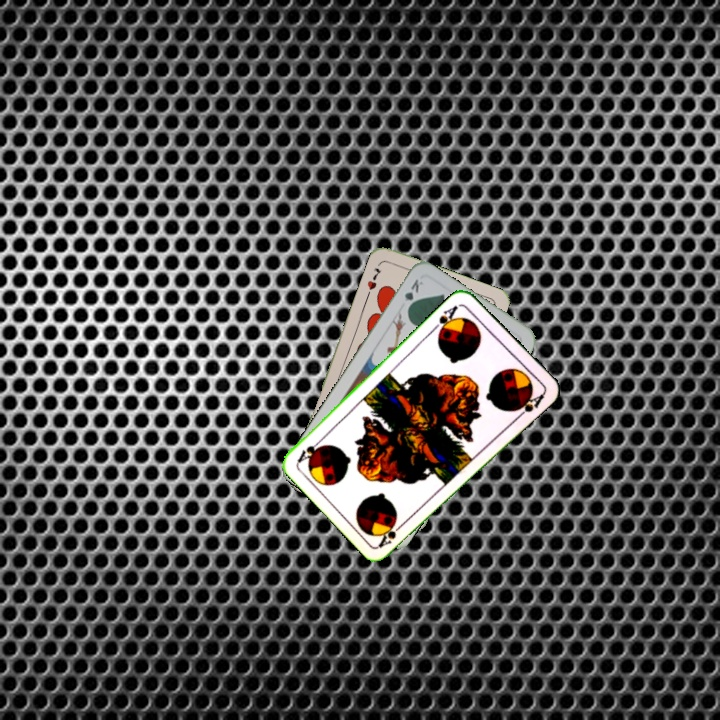GK: (400, 275, 426, 313)
H7: (363, 264, 384, 293)
SA: (429, 301, 462, 337), (374, 518, 408, 550)
